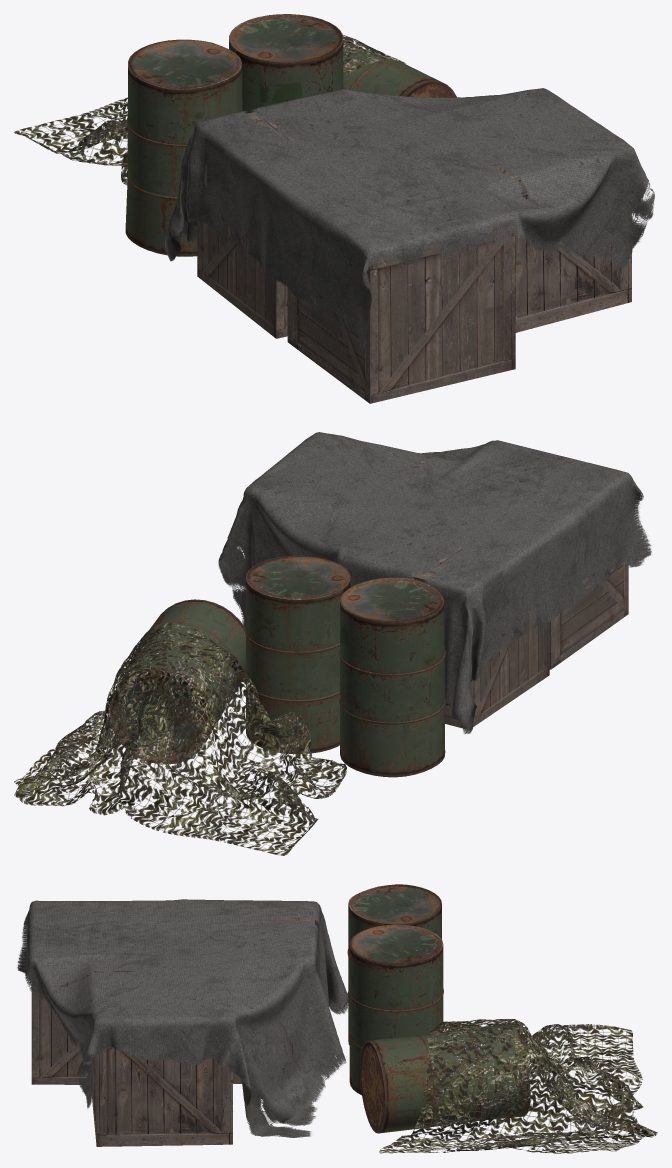
File: crates_barrels.glb
3 renders of one model, top to bottom at view 1: azimuth 30°, elevation 25°; view 2: azimuth 150°, elevation 25°; view 3: azimuth 270°, elevation 25°, orthographic. The views are drawn at different scales.
Parts seen in each view (by area): view 1: Cloth_Cloth_0, Crate_Crate_0, Barrel.002_Barrel_0, Barrel_Barrel_0, Crate.002_Crate_0, Crate.001_Crate_0, Cloth2_Cloth2_0, Barrel.001_Barrel_0; view 2: Cloth_Cloth_0, Cloth2_Cloth2_0, Barrel.002_Barrel_0, Barrel_Barrel_0, Barrel.001_Barrel_0, Crate.001_Crate_0, Crate_Crate_0; view 3: Cloth_Cloth_0, Cloth2_Cloth2_0, Crate.002_Crate_0, Barrel.001_Barrel_0, Barrel_Barrel_0, Barrel.002_Barrel_0, Crate_Crate_0, Crate.001_Crate_0.
Part boxes in pixels (bbox=[...]): Cloth_Cloth_0: bbox=[165, 88, 654, 353]; Crate_Crate_0: bbox=[287, 219, 515, 403]; Barrel.002_Barrel_0: bbox=[125, 39, 242, 256]; Barrel_Barrel_0: bbox=[229, 14, 343, 113]; Crate.002_Crate_0: bbox=[487, 158, 631, 332]; Crate.001_Crate_0: bbox=[197, 112, 296, 338]; Cloth2_Cloth2_0: bbox=[14, 35, 405, 185]; Barrel.001_Barrel_0: bbox=[343, 42, 456, 97]; Cloth_Cloth_0: bbox=[218, 432, 651, 734]; Cloth2_Cloth2_0: bbox=[14, 623, 346, 855]; Barrel.002_Barrel_0: bbox=[339, 577, 445, 777]; Barrel_Barrel_0: bbox=[245, 555, 350, 754]; Barrel.001_Barrel_0: bbox=[109, 599, 245, 764]; Crate.001_Crate_0: bbox=[413, 545, 549, 728]; Crate_Crate_0: bbox=[549, 545, 628, 669]; Cloth_Cloth_0: bbox=[17, 899, 348, 1137]; Cloth2_Cloth2_0: bbox=[379, 1019, 657, 1153]; Crate.002_Crate_0: bbox=[91, 970, 232, 1146]; Barrel.001_Barrel_0: bbox=[360, 1023, 530, 1133]; Barrel_Barrel_0: bbox=[349, 924, 443, 1095]; Barrel.002_Barrel_0: bbox=[347, 884, 441, 1045]; Crate_Crate_0: bbox=[31, 973, 90, 1084]; Crate.001_Crate_0: bbox=[233, 918, 316, 1083].
Bounding box in the file's own units: 2.26 × 1.07 × 4.5.
Materials: 4 (4 with a texture image).
